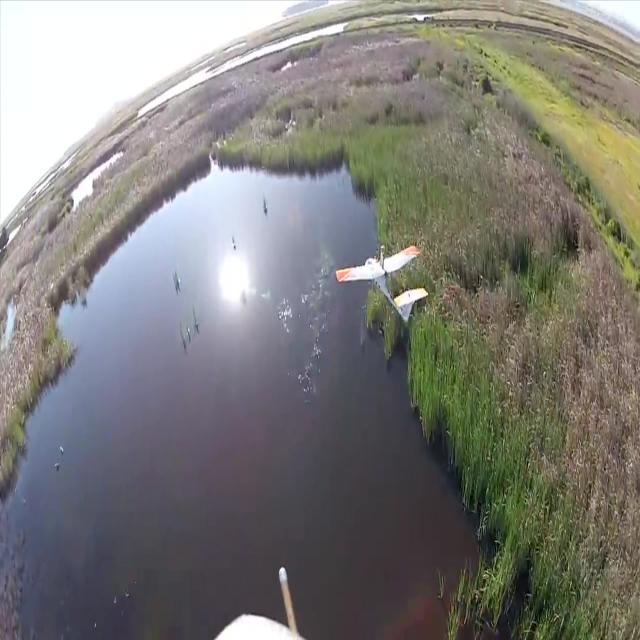iha: (366, 275, 398, 293)
